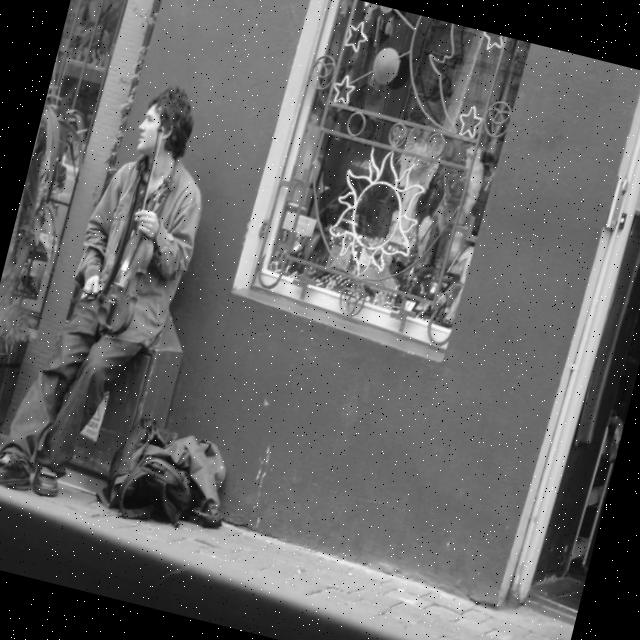violin: (90, 162, 178, 340)
